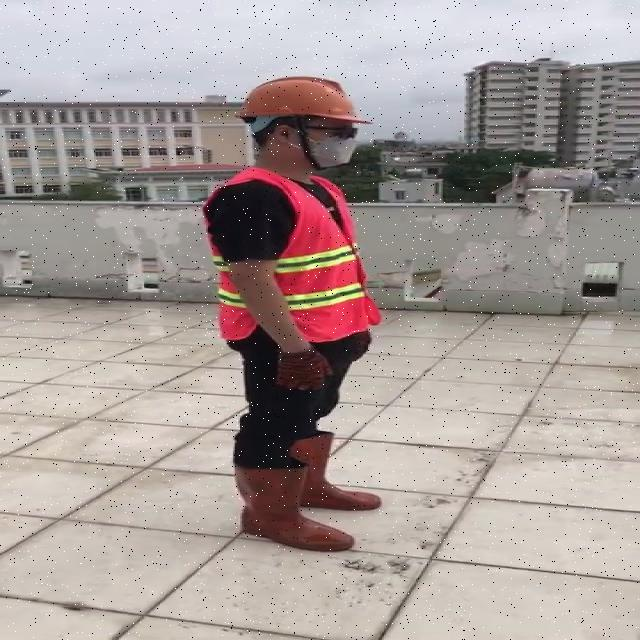Hard_hat: (229, 69, 377, 135)
Vest: (260, 166, 365, 345)
